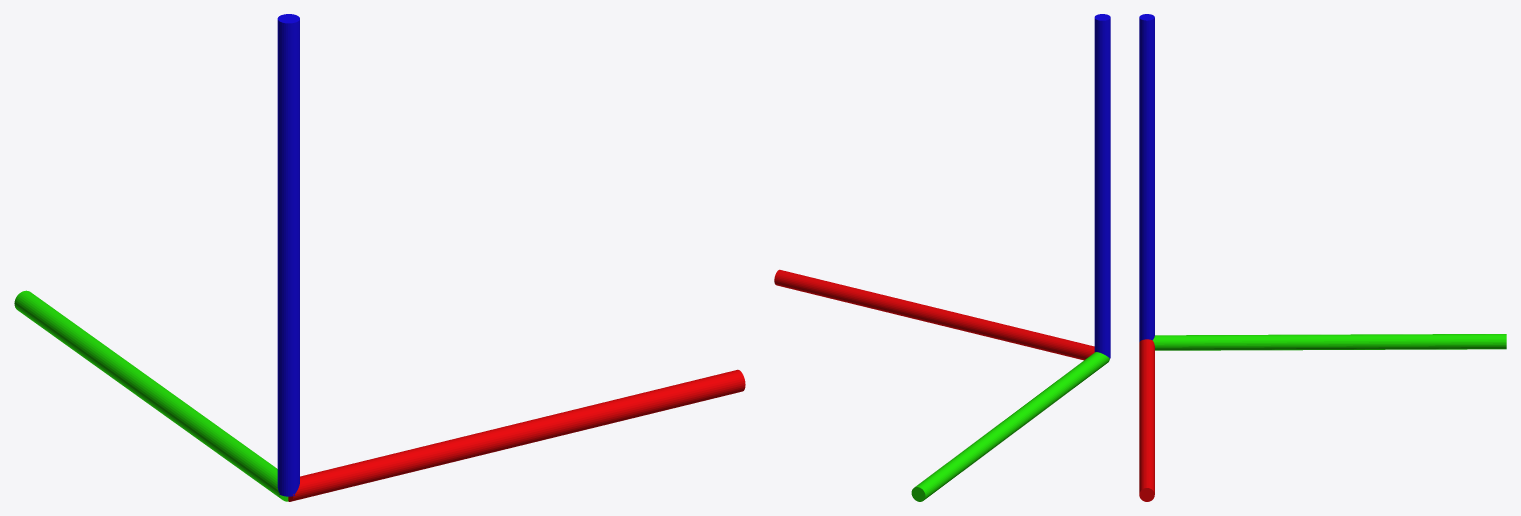
The picture shows the model from 3 angles, left to right: view 1: azimuth 30°, elevation 25°; view 2: azimuth 150°, elevation 25°; view 3: azimuth 270°, elevation 25°; orthographic projection. The views are drawn at different scales.
Visible parts, largest first — view 1: Cylinder.001; view 2: Cylinder.001; view 3: Cylinder.001.
Boxes of the visible parts, <box> form: Cylinder.001: <box>14,14,745,501</box>; Cylinder.001: <box>774,14,1110,501</box>; Cylinder.001: <box>1139,14,1506,501</box>.
Size of the model in its own units: 5.24 by 5.19 by 5.19.
